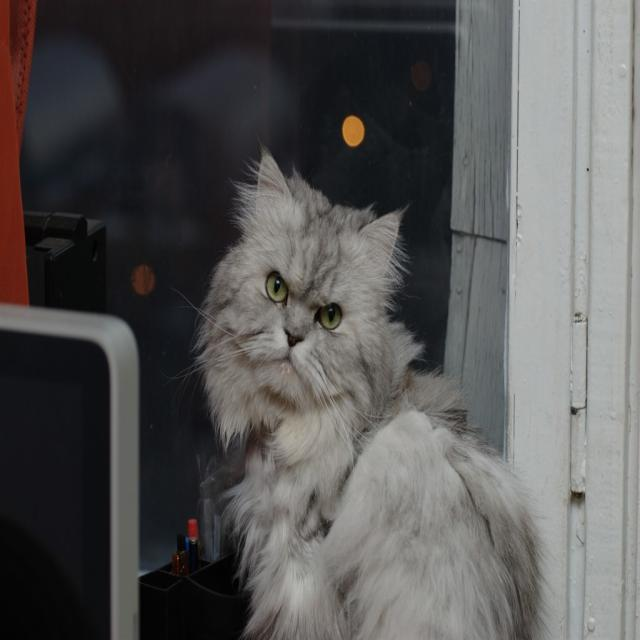Cat: (163, 143, 553, 638)
